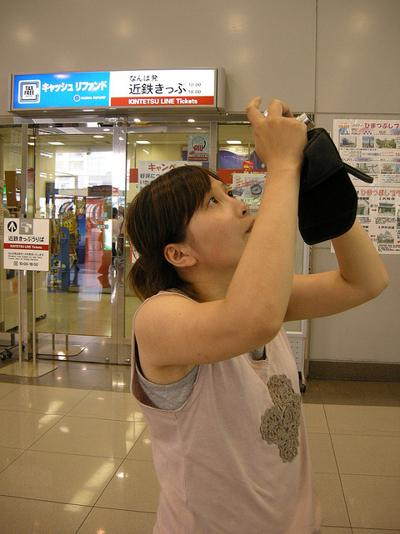person: (126, 97, 388, 534)
